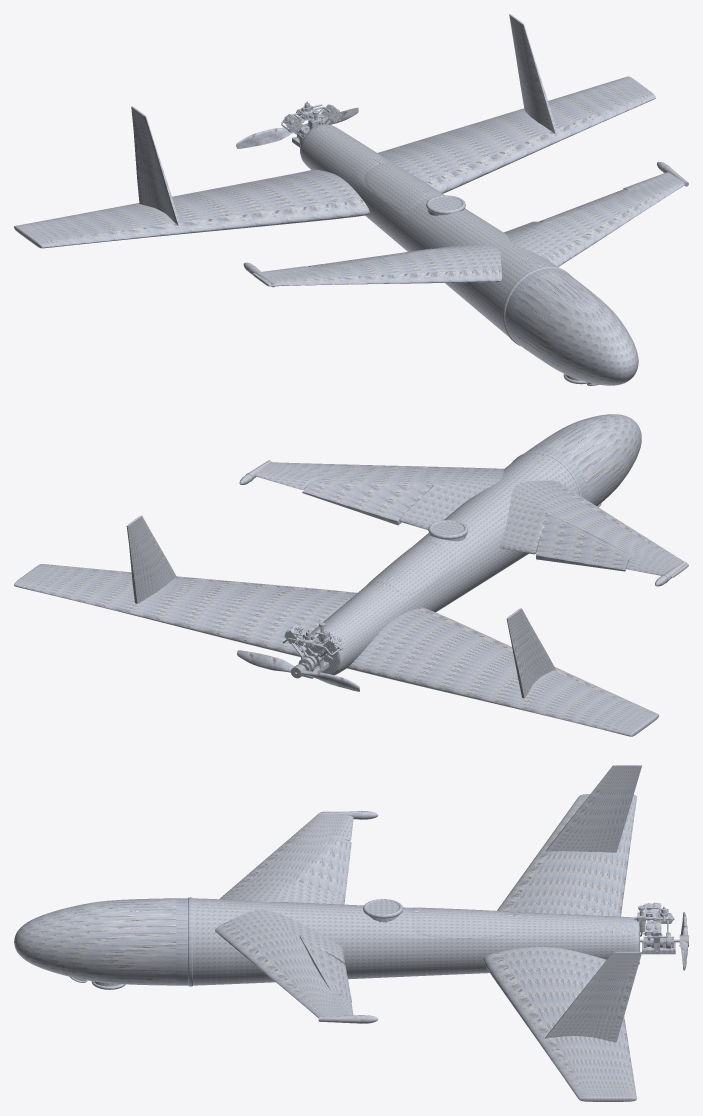
Rendered from qasif.glb.
3 views of the same model, one above another, from view 1: azimuth 30°, elevation 25°; view 2: azimuth 150°, elevation 25°; view 3: azimuth 270°, elevation 25° (orthographic).
Parts seen in each view (by area): view 1: Qasif_1_Mat_0; view 2: Qasif_1_Mat_0; view 3: Qasif_1_Mat_0.
Boxes of the visible parts, bbox=[...] form: Qasif_1_Mat_0: bbox=[14, 14, 688, 385]; Qasif_1_Mat_0: bbox=[14, 414, 688, 736]; Qasif_1_Mat_0: bbox=[14, 765, 688, 1101].
Size of the model in its own units: 2.94 by 0.5664 by 2.76.
1 material, 1 textured.
